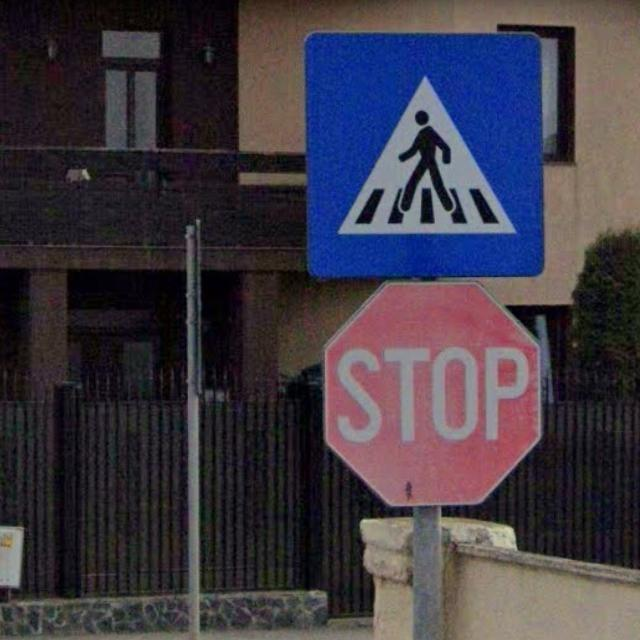info_crosswalk: (303, 29, 546, 276)
prio_stop: (321, 278, 543, 506)
